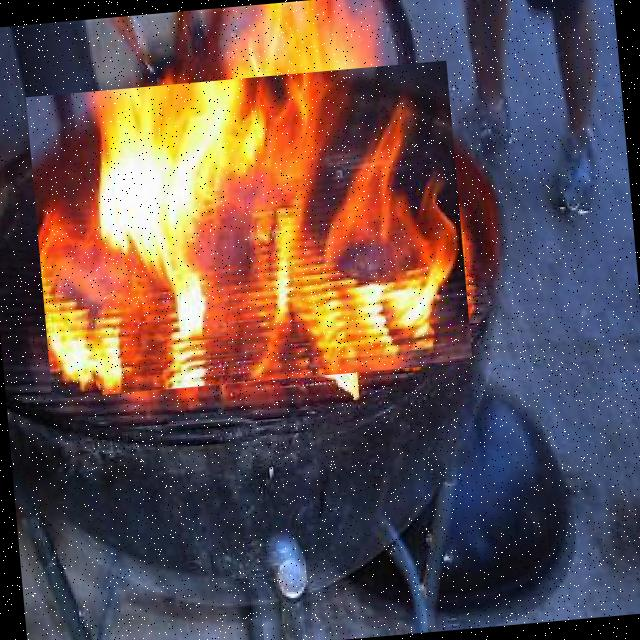fire: (25, 60, 472, 399)
